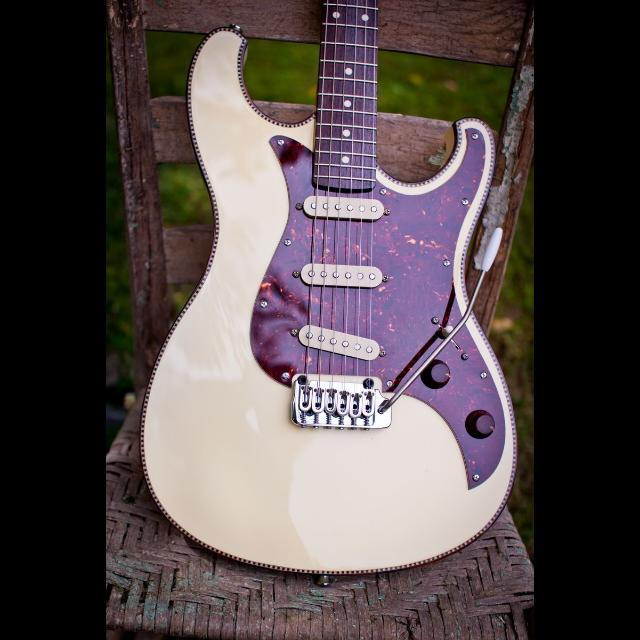Electric-Guitar: (119, 0, 527, 590)
